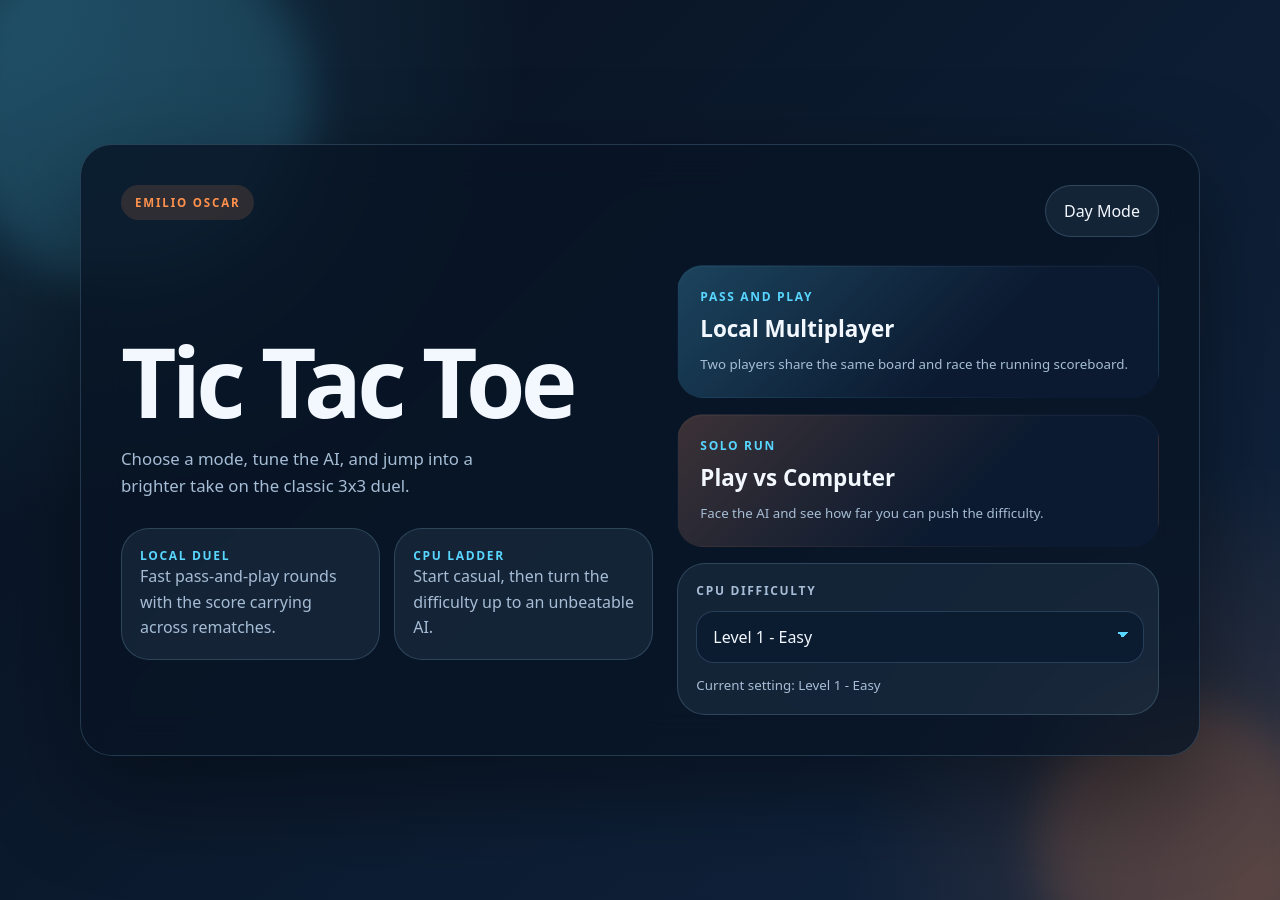
Restart game - resetBoard › Should reset entire game and return to start screen
This screenshot has width=1280, height=900.
Click the text "Local Multiplayer": (797, 328) [700, 312, 894, 344]
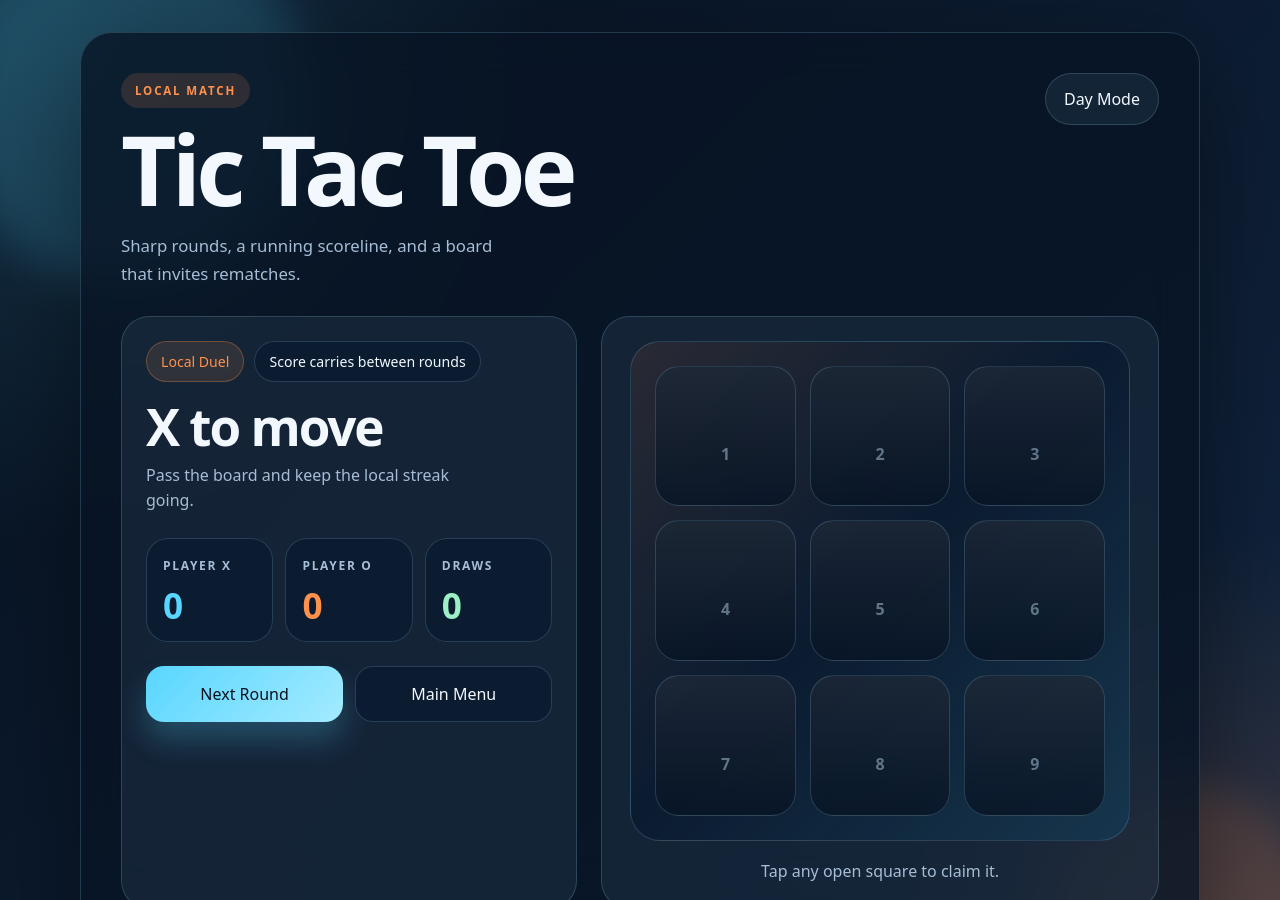
Click the button named "square": (725, 436) [655, 366, 796, 506]
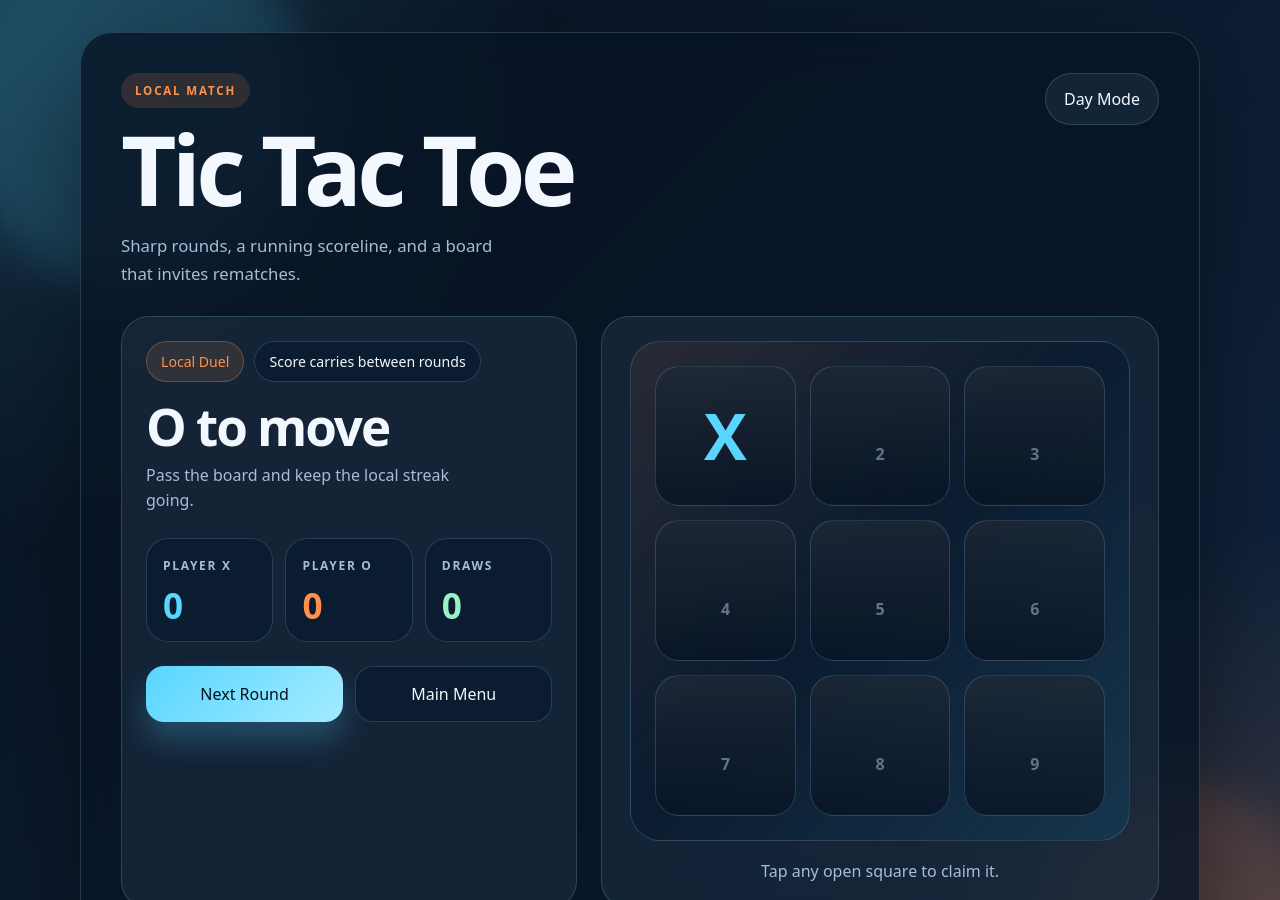
Click the button "Main Menu": (454, 694) [355, 666, 552, 722]
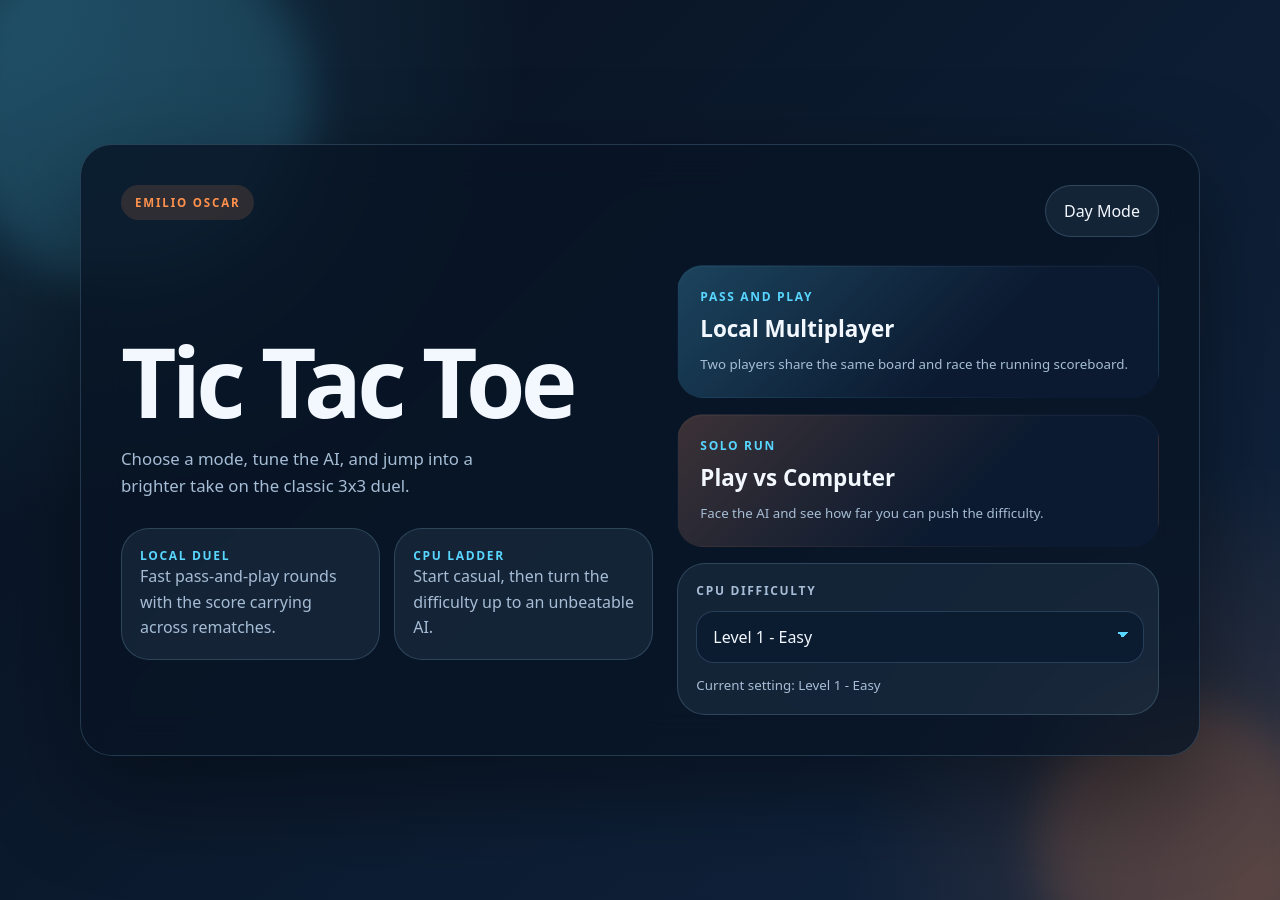
expect the text "Local Multiplayer" is shown: met, box [700, 312, 894, 344]
expect no elements "square" are shown: met
